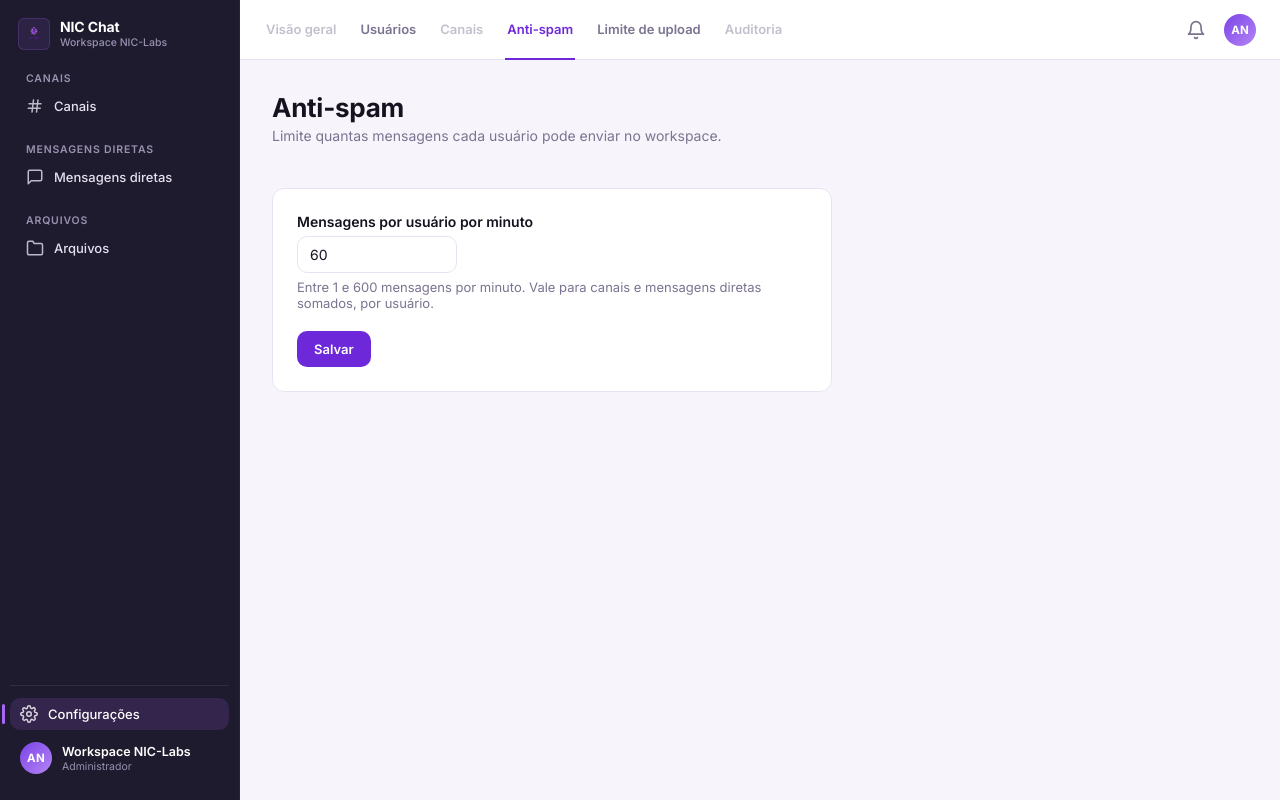
Test case: AdminAntiSpamPage › saves a valid limit and confirms success
Replace the text in the number field labelled "Mensagens por usuário por minuto" with "30" at (377, 254), box [297,236,457,273]
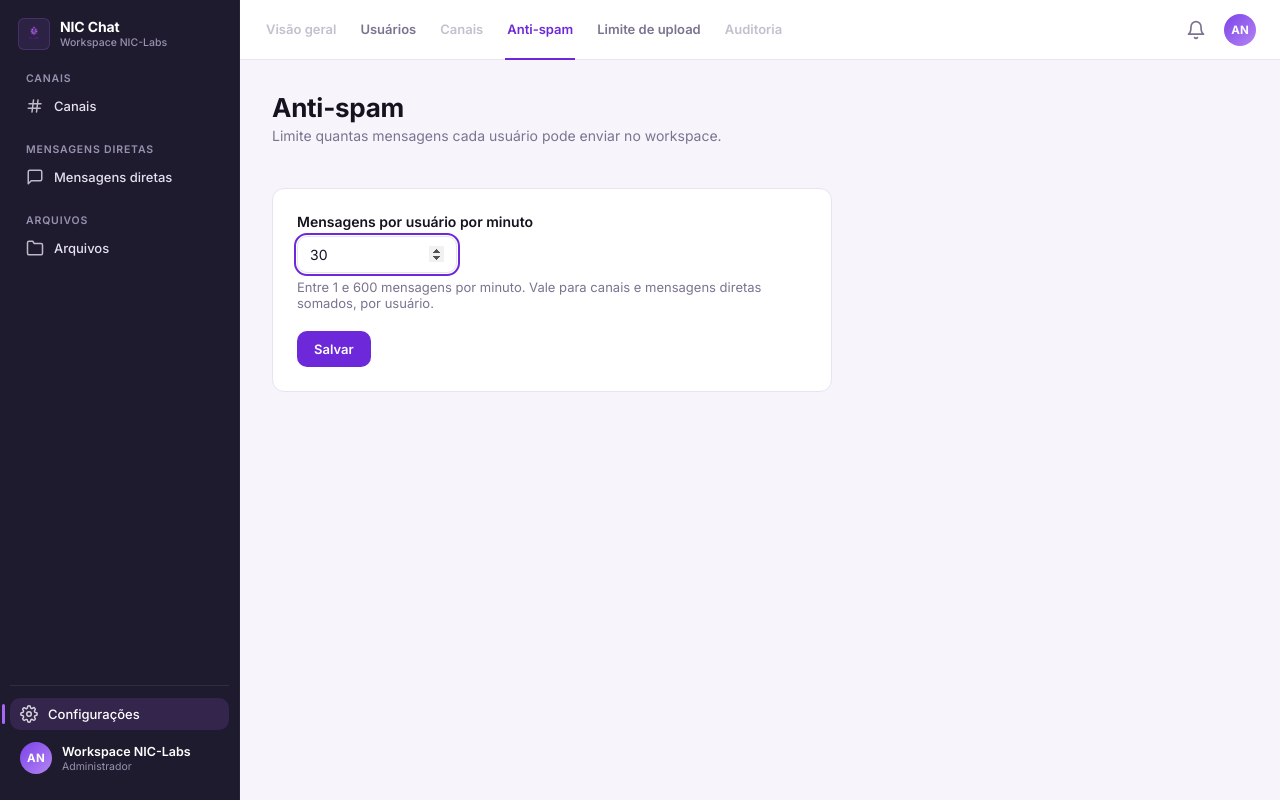
Click the button "Salvar" at (334, 349), box [297,331,371,367]
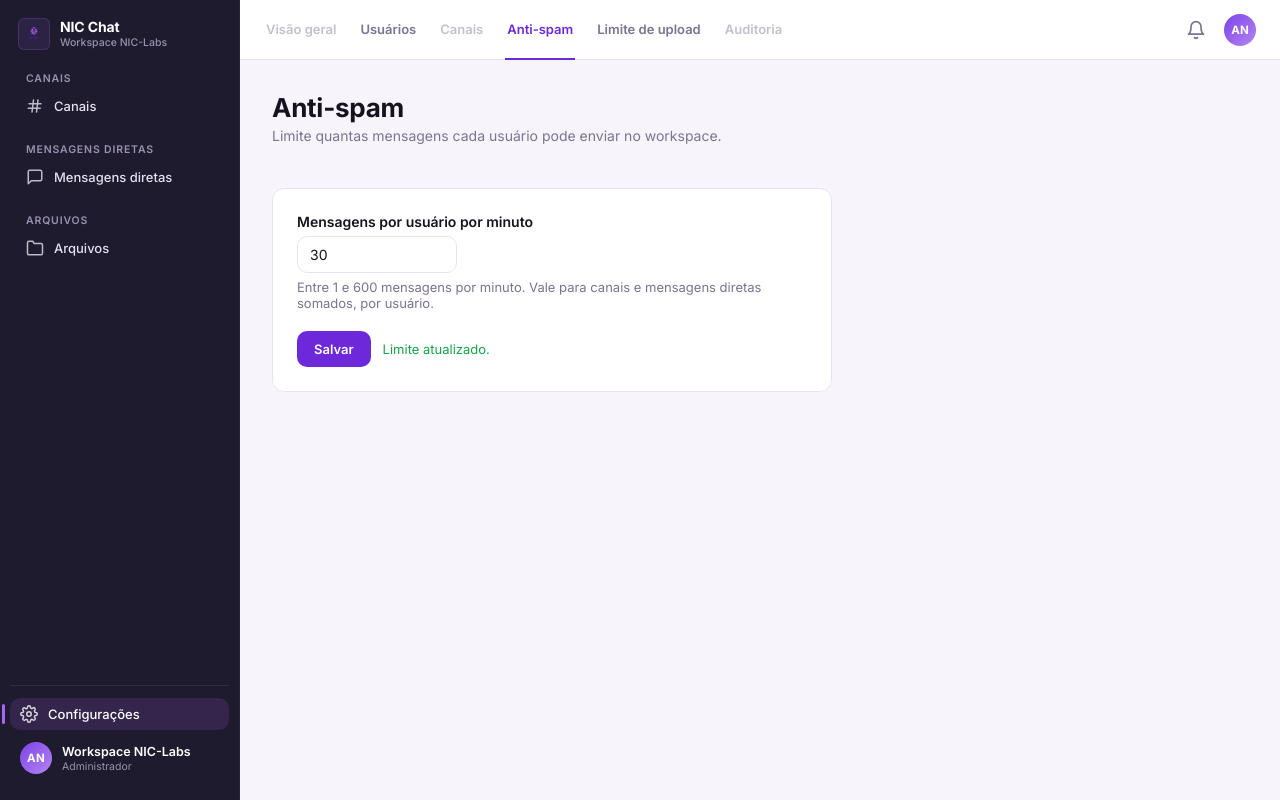
Check: the message shows "Limite atualizado", box [383,341,490,357]
